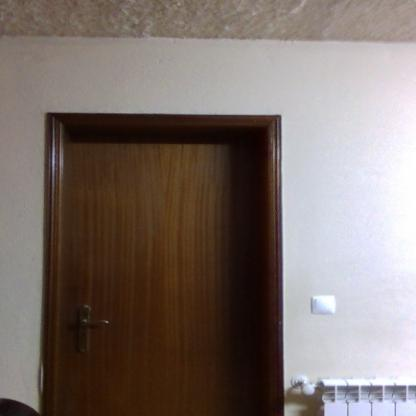door: (62, 130, 268, 416)
lever: (78, 316, 113, 330)
